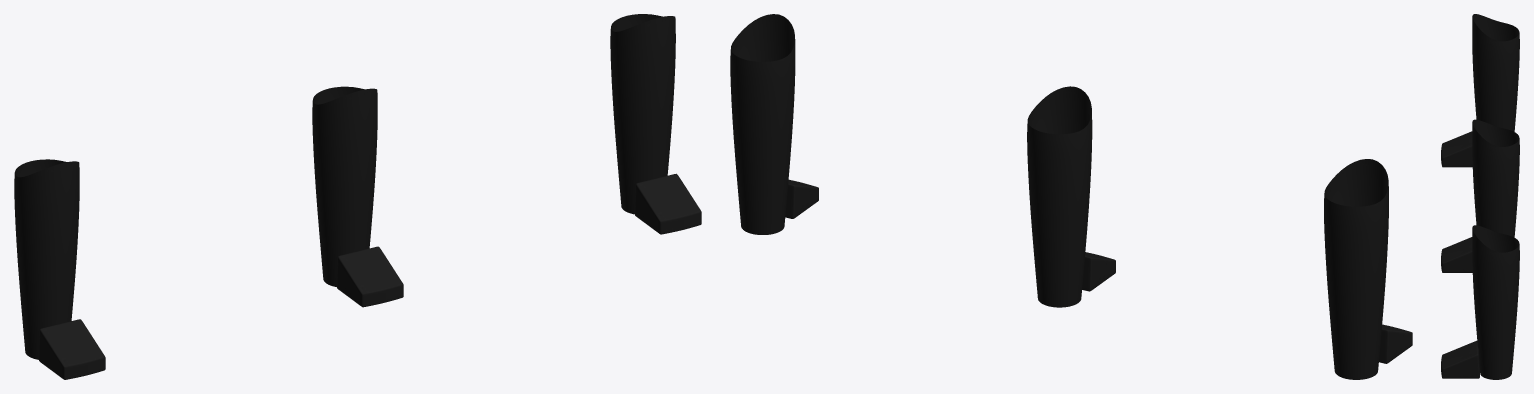
File: piernasD.obj
3 views of the same model, side by side, from view 1: azimuth 30°, elevation 25°; view 2: azimuth 150°, elevation 25°; view 3: azimuth 270°, elevation 25° (orthographic). The views are drawn at different scales.
Visible parts, largest first — view 1: Nutcraker001, Nutcraker, Nutcraker002; view 2: Nutcraker, Nutcraker002, Nutcraker001; view 3: Nutcraker002, Nutcraker001, Nutcraker.
Part boxes in pixels (bbox=[...]): Nutcraker001: bbox=[14, 159, 105, 379]; Nutcraker: bbox=[312, 86, 403, 307]; Nutcraker002: bbox=[610, 14, 701, 234]; Nutcraker: bbox=[1027, 86, 1115, 307]; Nutcraker002: bbox=[730, 14, 818, 234]; Nutcraker001: bbox=[1324, 159, 1412, 379]; Nutcraker002: bbox=[1441, 225, 1519, 379]; Nutcraker001: bbox=[1441, 14, 1519, 167]; Nutcraker: bbox=[1441, 119, 1519, 272].
Size of the model in its own units: 16.43 by 4.82 by 2.36.
Materials: 1 (1 with a texture image).
